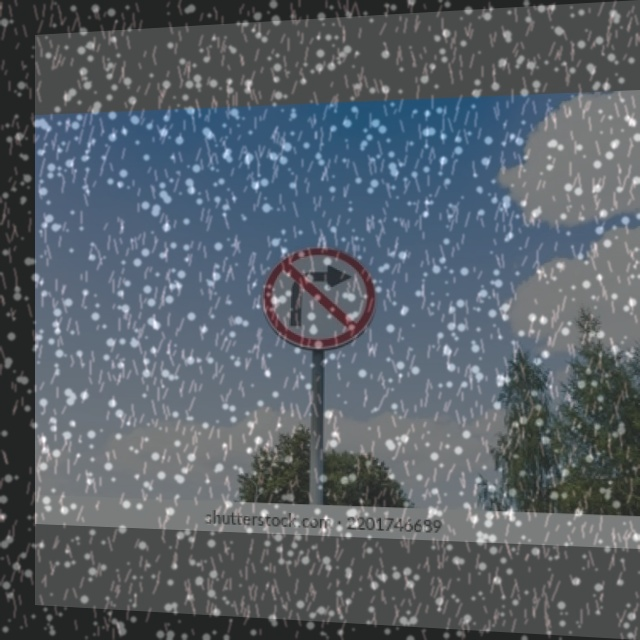Right_Turn_Prohibited: (263, 244, 376, 353)
